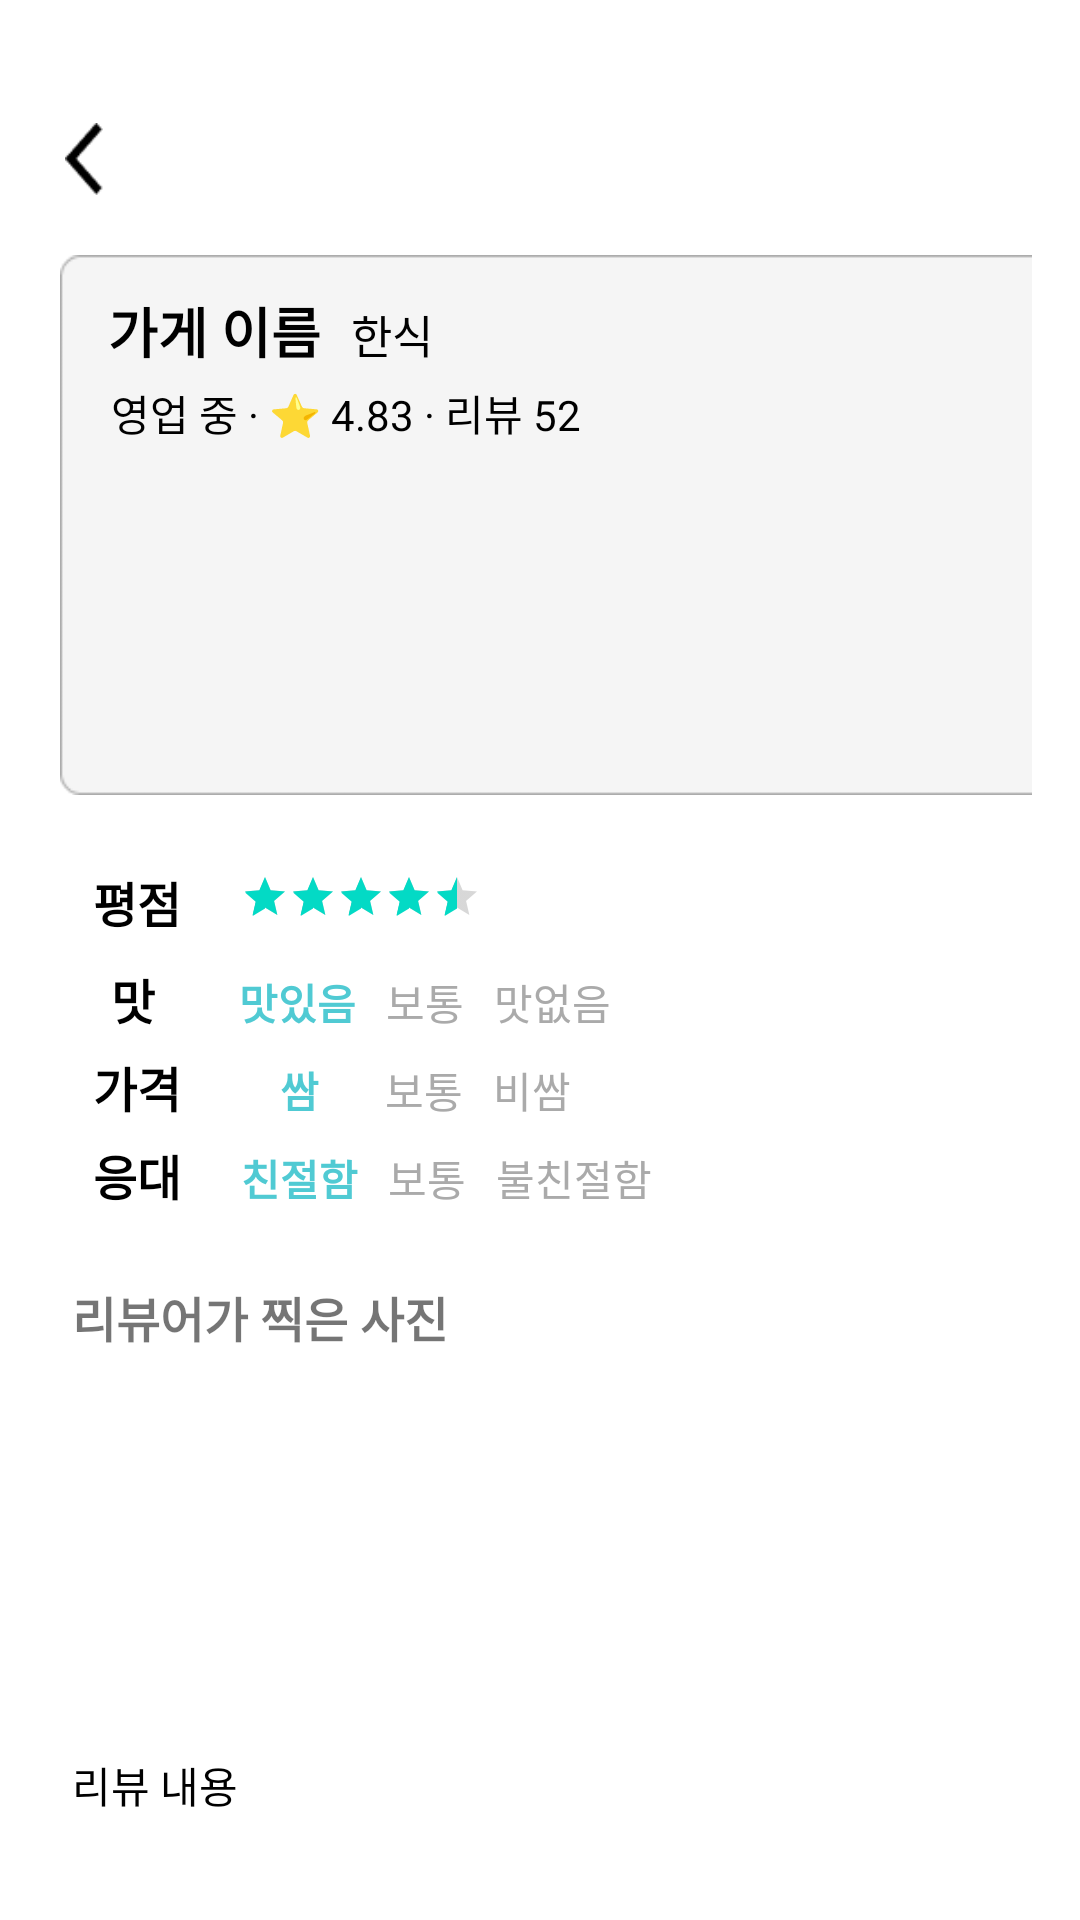

Icons on this 1080 x 1920 Android screen, each with its box as {"x1": x1, "y1": y1, "x2": x2, "y2": y2}:
back: {"x1": 65, "y1": 123, "x2": 103, "y2": 195}
